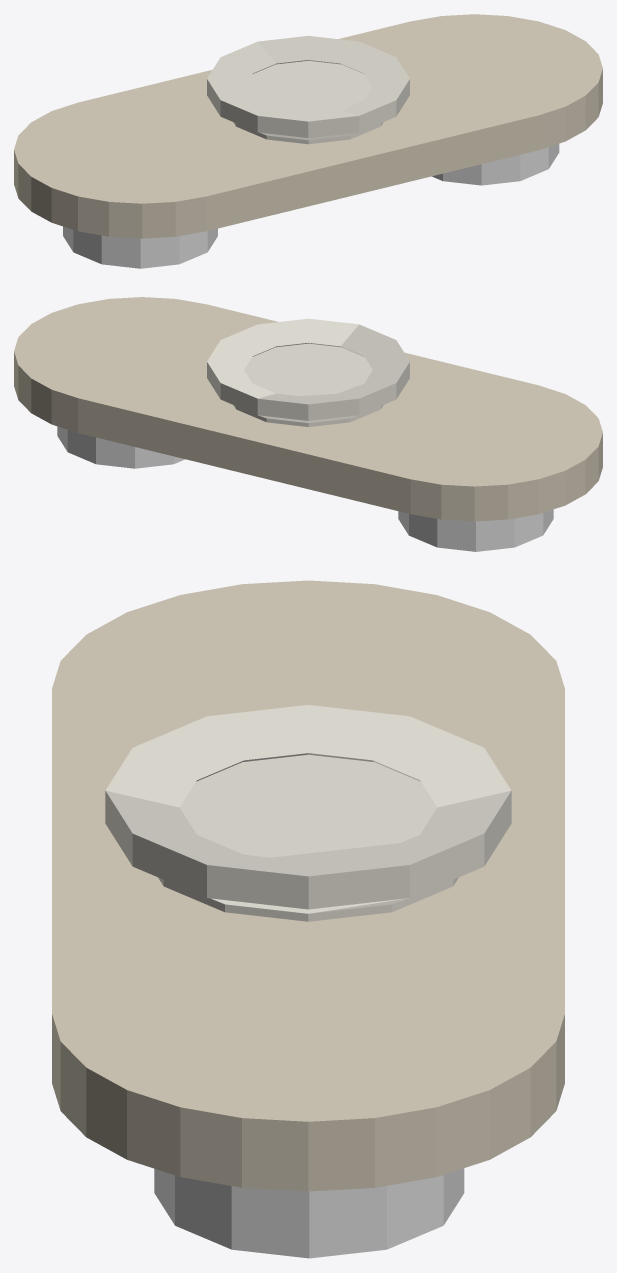
File: table1.fbx
The picture shows the model from 3 angles, top to bottom: view 1: azimuth 30°, elevation 25°; view 2: azimuth 150°, elevation 25°; view 3: azimuth 270°, elevation 25°; orthographic projection. The views are drawn at different scales.
Visible parts, largest first — view 1: Cylinder.001, Cylinder.004, Cylinder.003, Cylinder.002, Cylinder; view 2: Cylinder.001, Cylinder.004, Cylinder.003, Cylinder.002, Cylinder; view 3: Cylinder.001, Cylinder.004, Cylinder.003, Cylinder.
Boxes of the visible parts, box(x1,y1,x2,y2) form: Cylinder.001: box(14, 14, 602, 238); Cylinder.004: box(207, 36, 409, 140); Cylinder.003: box(233, 60, 383, 144); Cylinder.002: box(63, 226, 217, 268); Cylinder: box(432, 144, 559, 185); Cylinder.001: box(14, 297, 602, 521); Cylinder.004: box(207, 318, 409, 422); Cylinder.003: box(233, 343, 383, 426); Cylinder.002: box(398, 509, 553, 551); Cylinder: box(57, 426, 184, 468); Cylinder.001: box(52, 580, 564, 1191); Cylinder.004: box(105, 705, 511, 913); Cylinder.003: box(158, 754, 458, 921); Cylinder: box(154, 1168, 464, 1258).
Bounding box in the file's own units: 568 × 114 × 228.
